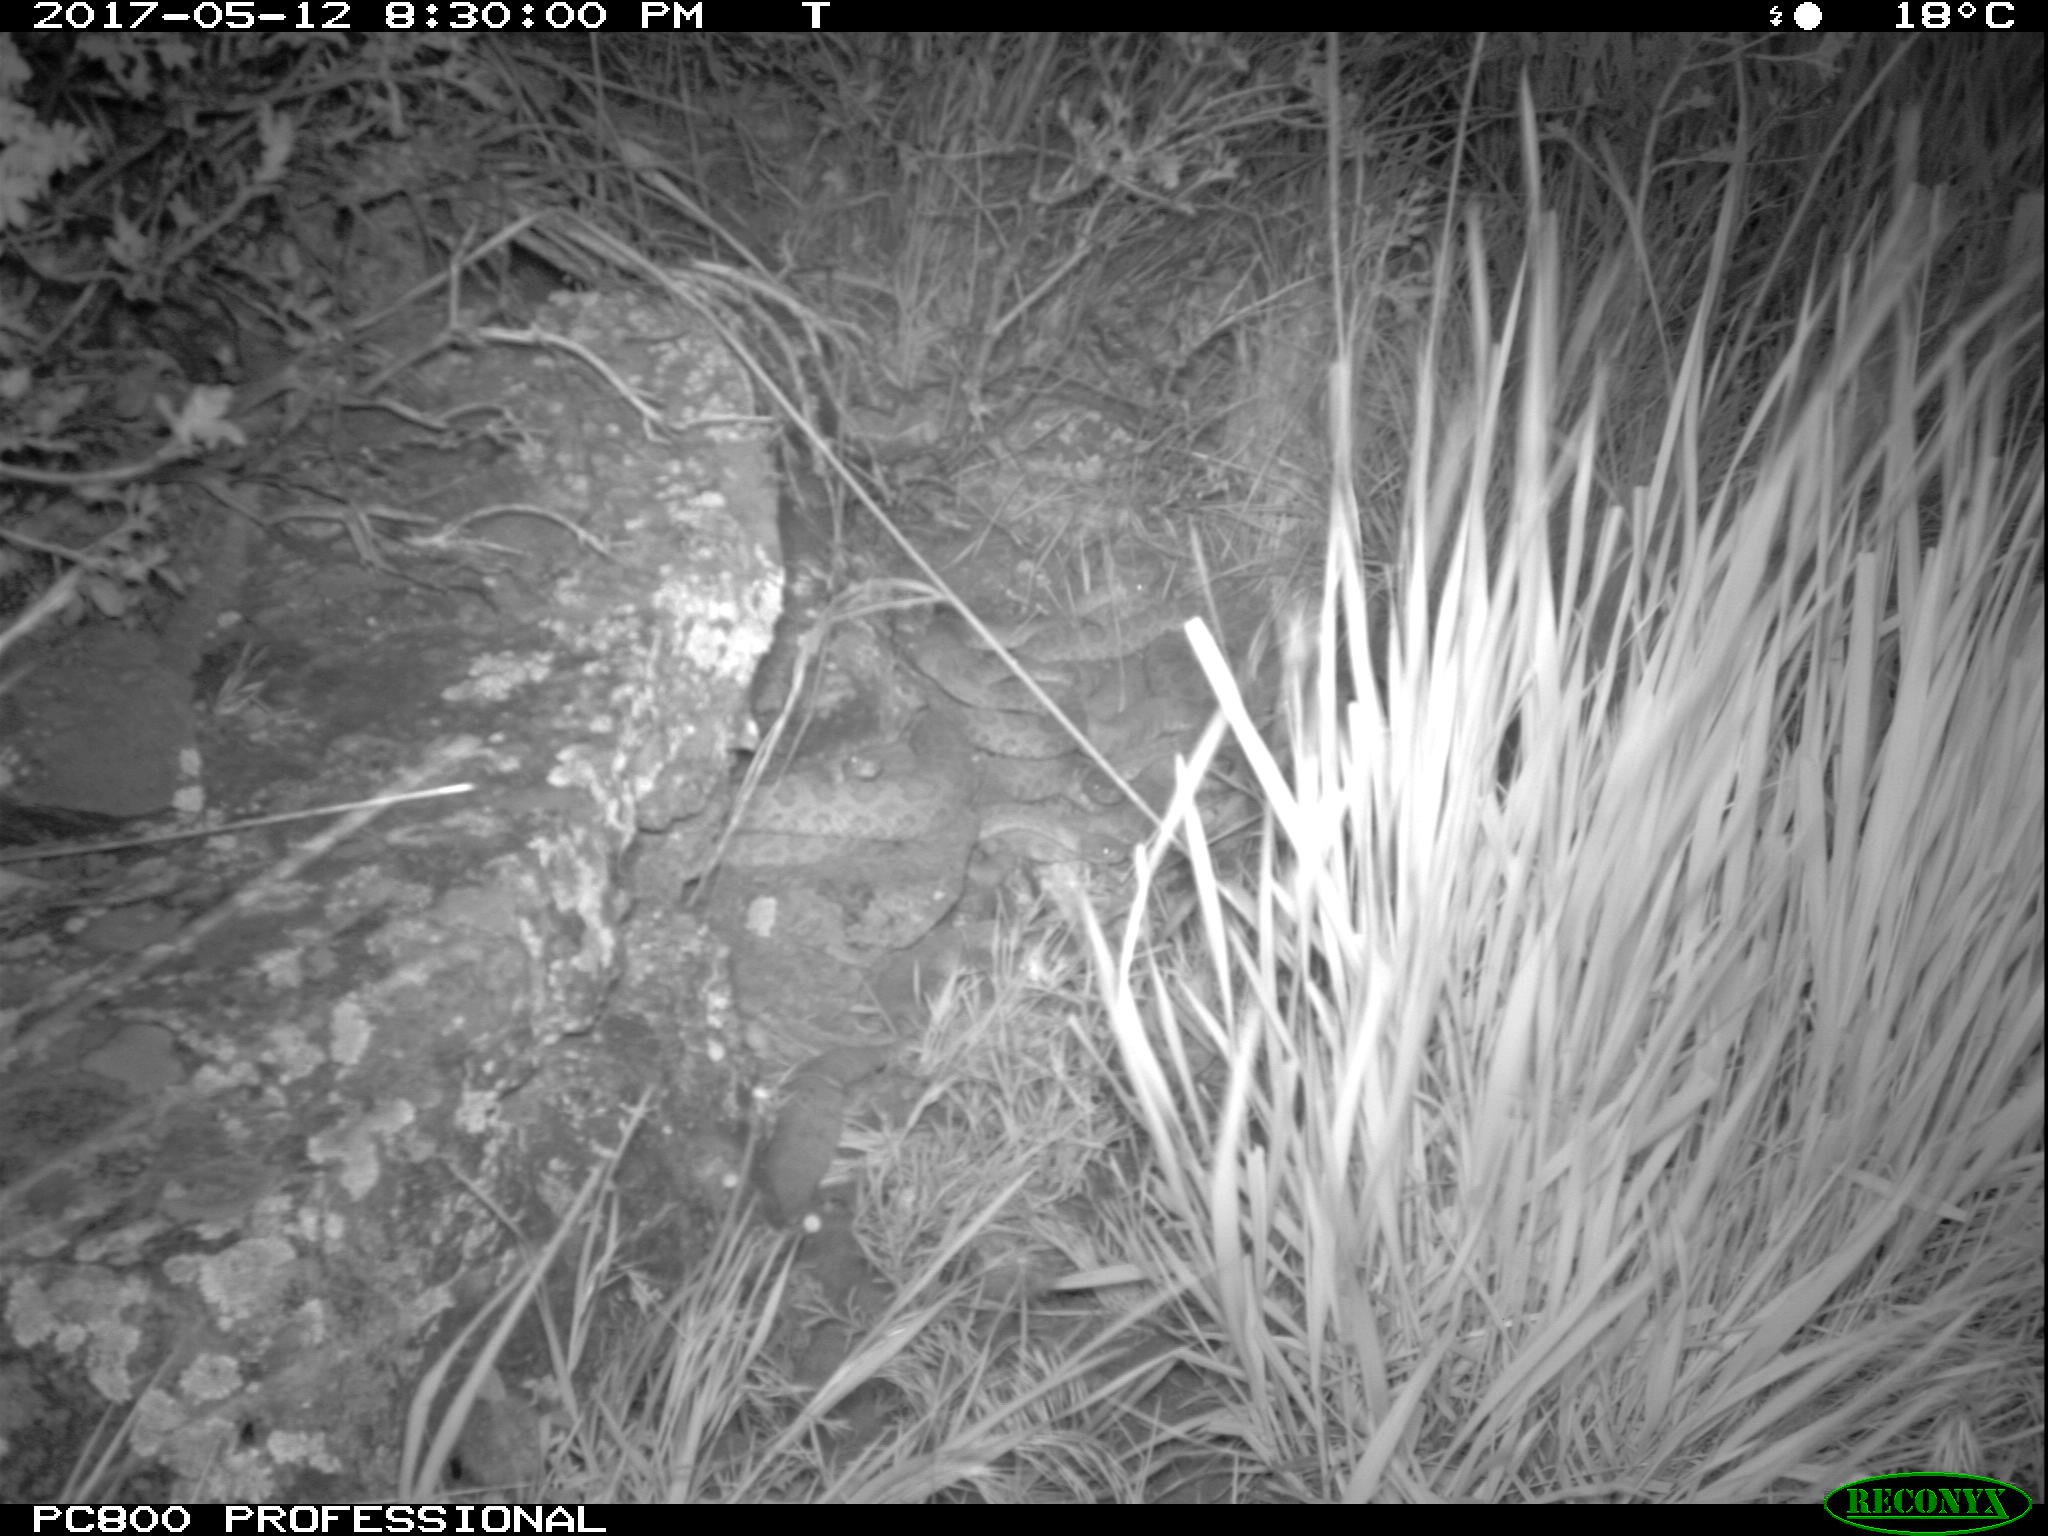snake: (721, 758, 977, 887), (913, 615, 1089, 783), (1018, 611, 1205, 674)
